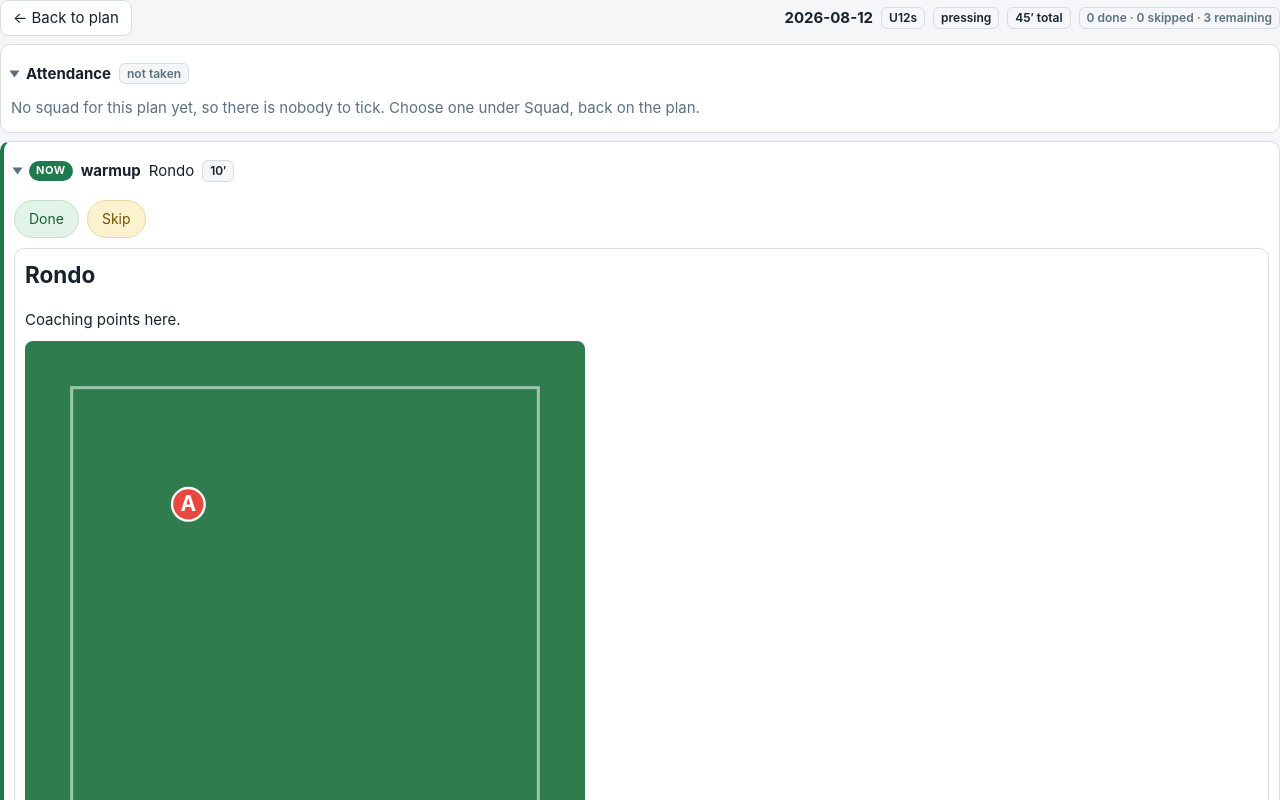
Scenario: SessionRun accordion (interactive) › marking the current block Done collapses it and opens the next unsettled block
Click the button "Done" at (46, 219), box [14,200,79,238]
(page scrolled)
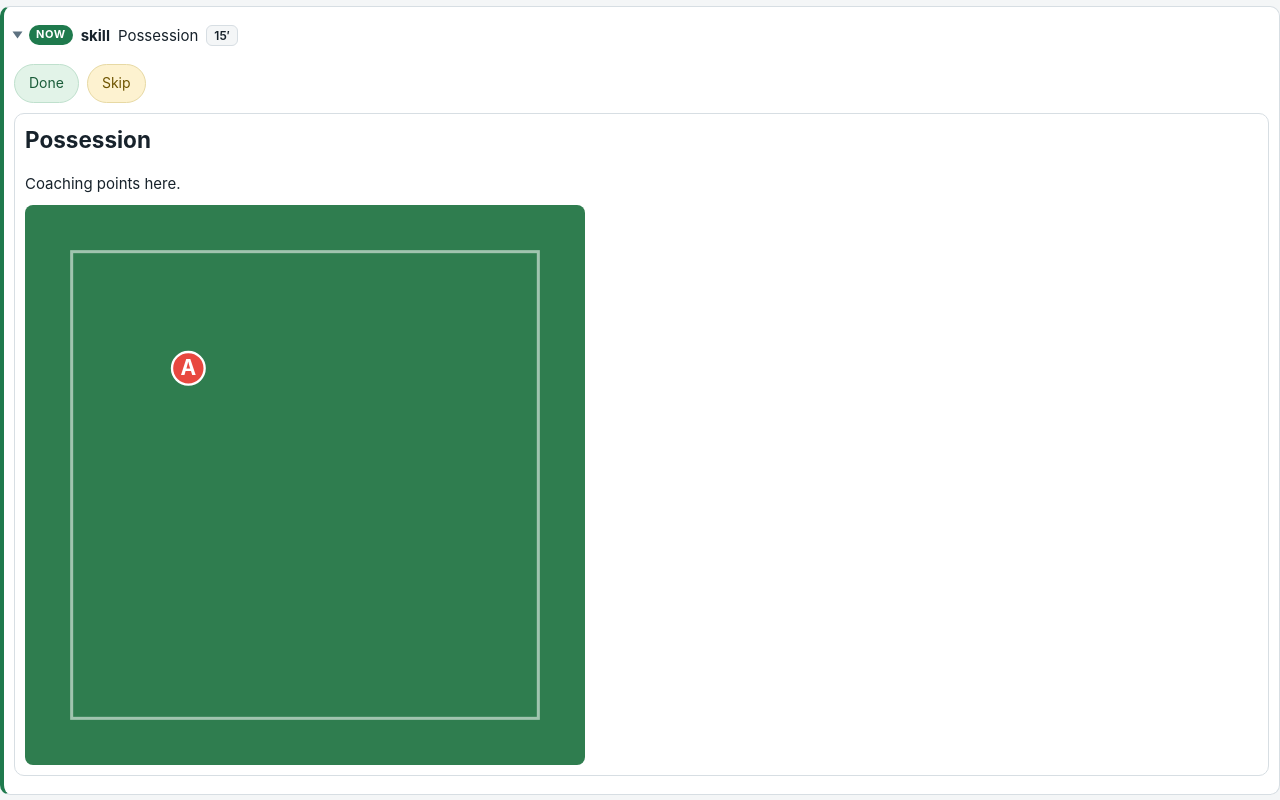
Check: the element with class "run-block" no longer shows "Coaching points here"
Check: the element with class "run-block" shows "Coaching points here", box [25,174,180,193]
